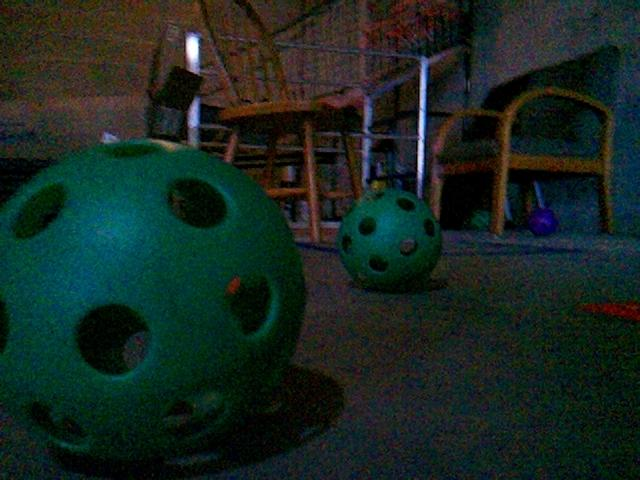Green: (1, 140, 309, 467), (335, 186, 444, 290), (468, 209, 490, 230)
Purple: (526, 206, 559, 236)
